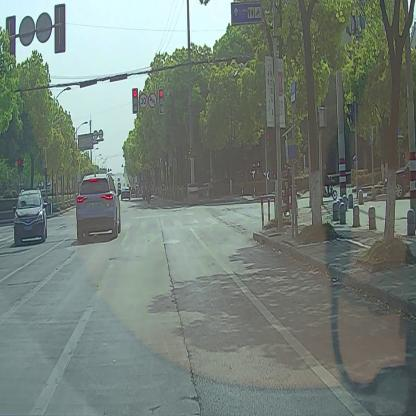Red Light: (131, 87, 139, 114), (158, 88, 166, 114)
